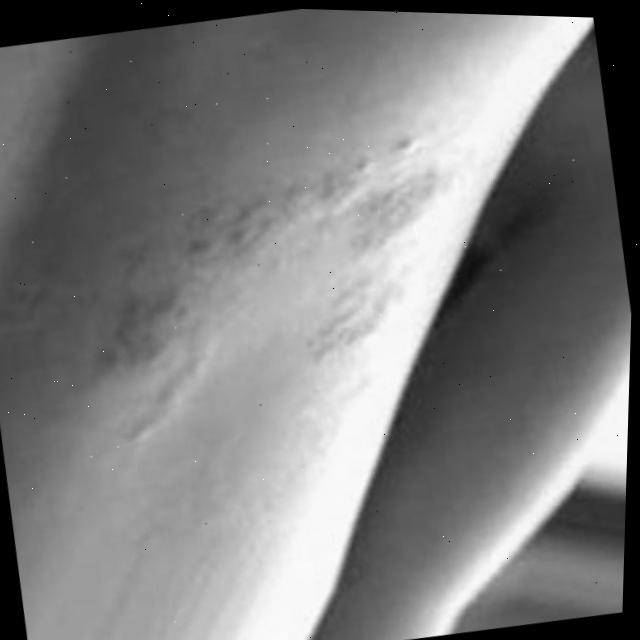Shingles: (64, 117, 466, 401)
